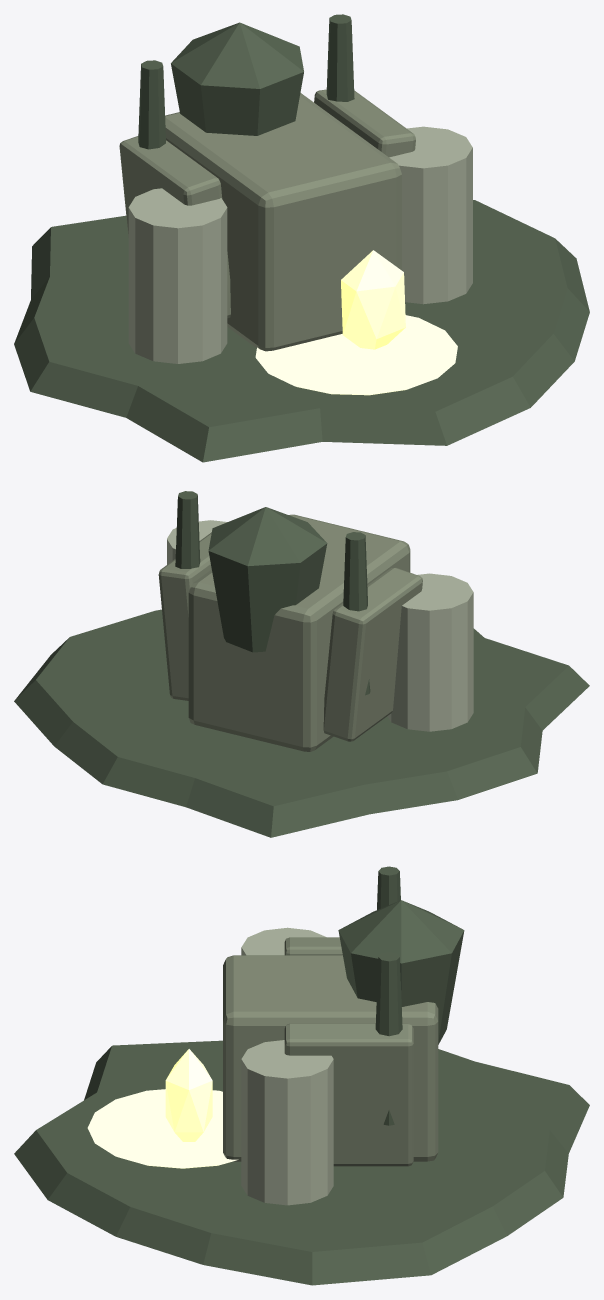
The model's file is toxic-expanse-lod2.glb.
3 renders of one model, top to bottom at view 1: azimuth 30°, elevation 25°; view 2: azimuth 150°, elevation 25°; view 3: azimuth 270°, elevation 25°, orthographic. The views are drawn at different scales.
Parts seen in each view (by area): view 1: STONE_TERRAIN_SOCKET, STONE_REFINERY_NAVE, METAL_REACTOR_TANK_-1, DARK_REFINERY_APSE, METAL_REACTOR_TANK_1, EMISSIVE_TOXIC_RESERVOIR, FX_TOXIC_VAPOR, STONE_NAVE_BUTTRESS_-1, STONE_NAVE_BUTTRESS_1, METAL_SMOKE_STACK_-1, METAL_SMOKE_STACK_1; view 2: STONE_TERRAIN_SOCKET, STONE_REFINERY_NAVE, DARK_REFINERY_APSE, METAL_REACTOR_TANK_-1, STONE_NAVE_BUTTRESS_-1, STONE_NAVE_BUTTRESS_1, METAL_SMOKE_STACK_-1, METAL_SMOKE_STACK_1, METAL_REACTOR_TANK_1; view 3: STONE_TERRAIN_SOCKET, STONE_REFINERY_NAVE, METAL_REACTOR_TANK_1, STONE_NAVE_BUTTRESS_1, DARK_REFINERY_APSE, EMISSIVE_TOXIC_RESERVOIR, FX_TOXIC_VAPOR, METAL_SMOKE_STACK_1, METAL_REACTOR_TANK_-1, STONE_NAVE_BUTTRESS_-1, METAL_SMOKE_STACK_-1.
Boxes of the visible parts, x1=… form: STONE_TERRAIN_SOCKET: x1=14, y1=200, x2=589, y2=462; STONE_REFINERY_NAVE: x1=165, y1=93, x2=401, y2=351; METAL_REACTOR_TANK_-1: x1=128, y1=188, x2=227, y2=363; DARK_REFINERY_APSE: x1=171, y1=22, x2=303, y2=135; METAL_REACTOR_TANK_1: x1=389, y1=126, x2=472, y2=304; EMISSIVE_TOXIC_RESERVOIR: x1=255, y1=315, x2=457, y2=395; FX_TOXIC_VAPOR: x1=341, y1=250, x2=405, y2=349; STONE_NAVE_BUTTRESS_-1: x1=119, y1=136, x2=230, y2=318; STONE_NAVE_BUTTRESS_1: x1=314, y1=89, x2=415, y2=157; METAL_SMOKE_STACK_-1: x1=138, y1=60, x2=165, y2=149; METAL_SMOKE_STACK_1: x1=326, y1=14, x2=354, y2=101; STONE_TERRAIN_SOCKET: x1=14, y1=609, x2=589, y2=837; STONE_REFINERY_NAVE: x1=188, y1=514, x2=410, y2=751; DARK_REFINERY_APSE: x1=208, y1=507, x2=327, y2=652; METAL_REACTOR_TANK_-1: x1=387, y1=573, x2=473, y2=731; STONE_NAVE_BUTTRESS_-1: x1=323, y1=567, x2=422, y2=741; STONE_NAVE_BUTTRESS_1: x1=158, y1=532, x2=211, y2=700; METAL_SMOKE_STACK_-1: x1=343, y1=532, x2=370, y2=695; METAL_SMOKE_STACK_1: x1=175, y1=491, x2=200, y2=568; METAL_REACTOR_TANK_1: x1=167, y1=520, x2=227, y2=564; STONE_TERRAIN_SOCKET: x1=14, y1=1040, x2=589, y2=1285; STONE_REFINERY_NAVE: x1=223, y1=955, x2=438, y2=1161; METAL_REACTOR_TANK_1: x1=241, y1=1040, x2=333, y2=1205; STONE_NAVE_BUTTRESS_1: x1=284, y1=1023, x2=413, y2=1166; DARK_REFINERY_APSE: x1=338, y1=900, x2=464, y2=1044; EMISSIVE_TOXIC_RESERVOIR: x1=87, y1=1089, x2=238, y2=1168; FX_TOXIC_VAPOR: x1=165, y1=1049, x2=212, y2=1141; METAL_SMOKE_STACK_1: x1=375, y1=952, x2=402, y2=1125; METAL_REACTOR_TANK_-1: x1=241, y1=927, x2=326, y2=955; STONE_NAVE_BUTTRESS_-1: x1=284, y1=937, x2=342, y2=955; METAL_SMOKE_STACK_-1: x1=377, y1=866, x2=400, y2=909.
Bounding box in the file's own units: 1.91 × 0.9096 × 1.87.
